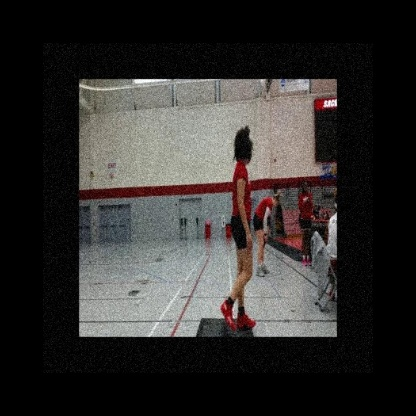lateral_flexion_left: (219, 125, 261, 337)
stance_width_broad: (222, 162, 257, 337)
